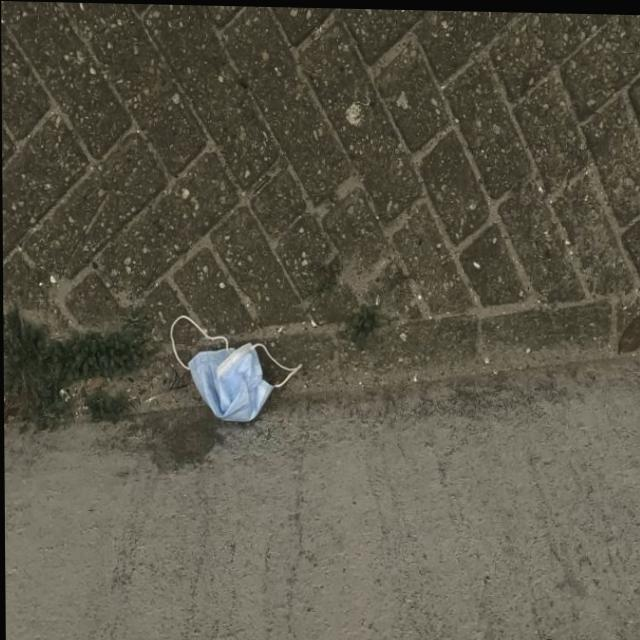Mask: (168, 312, 302, 422)
